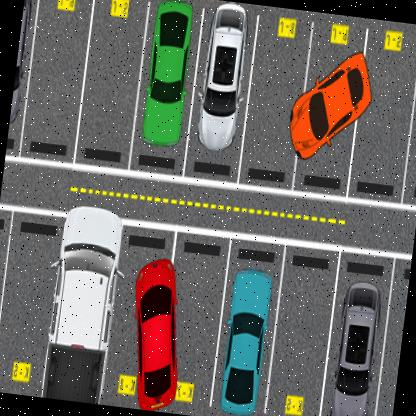Car: (30, 201, 127, 405), (284, 34, 380, 164), (209, 259, 277, 416), (188, 0, 252, 165), (138, 0, 200, 149), (130, 243, 184, 412), (320, 274, 384, 416)
Empty: (20, 0, 94, 146), (79, 0, 148, 145), (264, 267, 331, 416), (0, 222, 58, 387), (350, 43, 416, 186), (244, 28, 304, 164), (165, 258, 219, 398)
